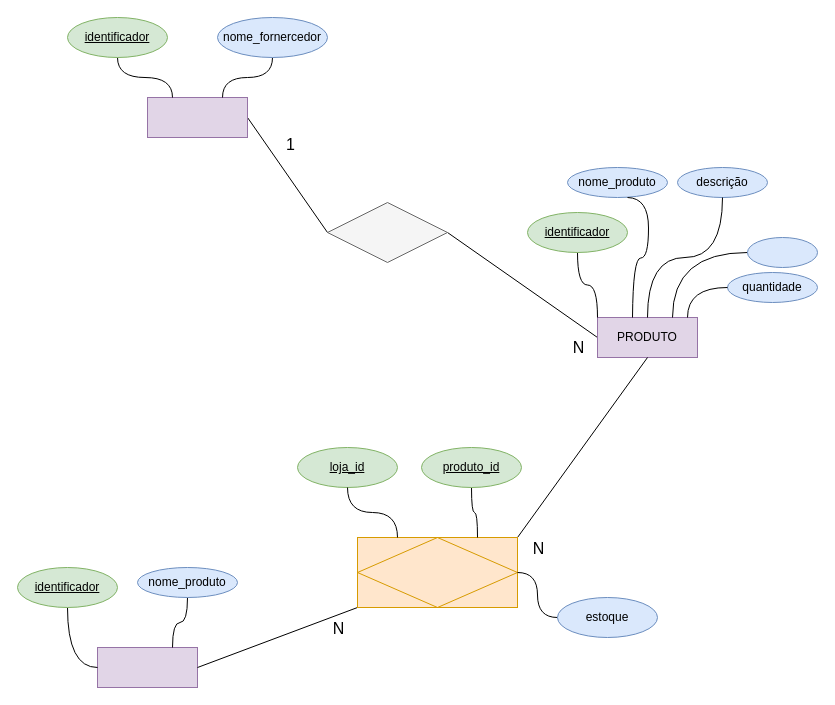
The diagram is 835 pixels wide and 705 high, and some of its shapes have lost their labels. Each missing label, with the centre of its shape:
"FORNECE" goes at point 387,232.
"FORNECEDOR" goes at point 197,117.
"LOJA" goes at point 147,667.
"LOJAS_PRODUTOS" goes at point 437,572.
"preco" goes at point 782,252.
